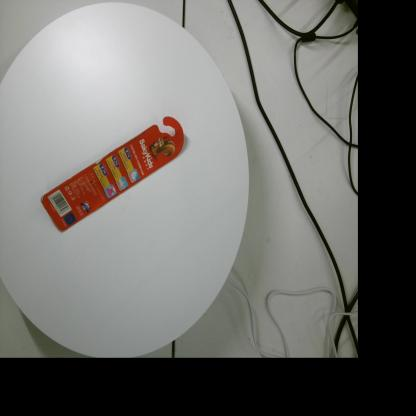Personal Hygiene: (40, 116, 184, 233)
